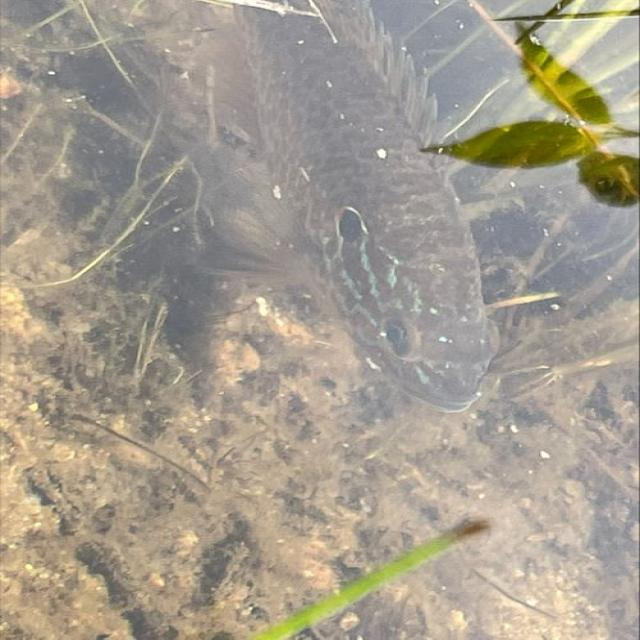Gunes Levregi: (205, 0, 534, 424)
